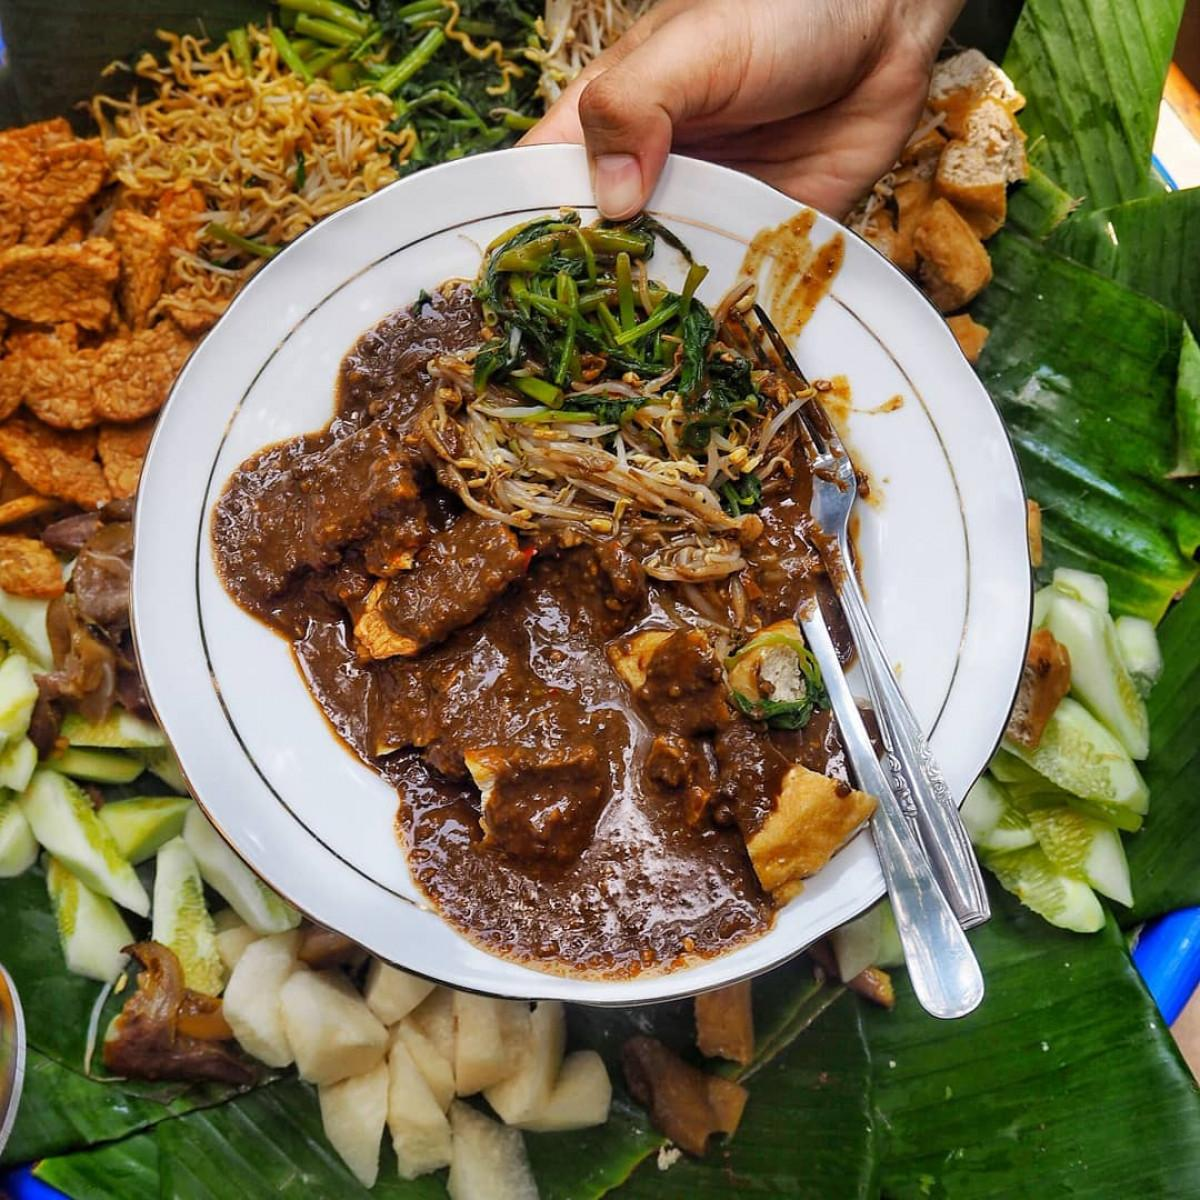rujak_cingur: (208, 218, 878, 982)
